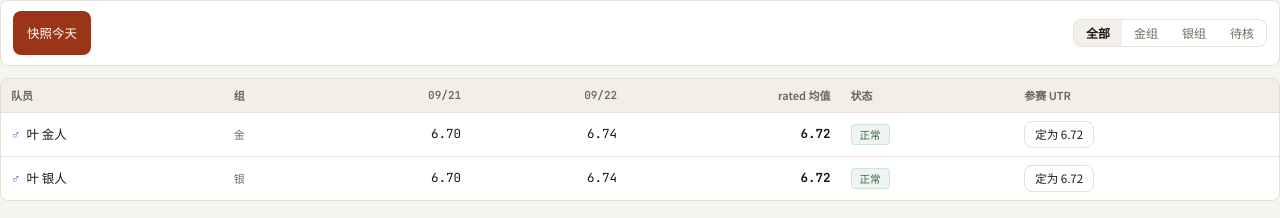
Test case: SamplingMonitor filter + actions › filters by division (金组)
What coordinates should you click on to do the following:
click the button "金组"
I would click on:
 (1146, 33)
Its box is [1122,20,1170,46].
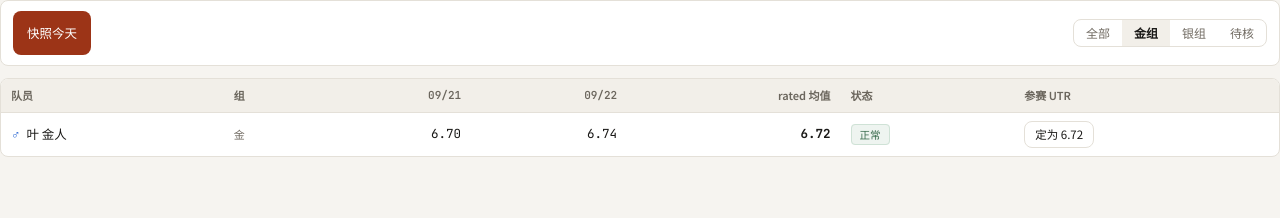
Expected: the row "♂ 叶 金人 金 6.70 6.74 6.72 正常 定为 6.72" is shown, [1,112,1279,156]
Result: the row "银人" is gone
